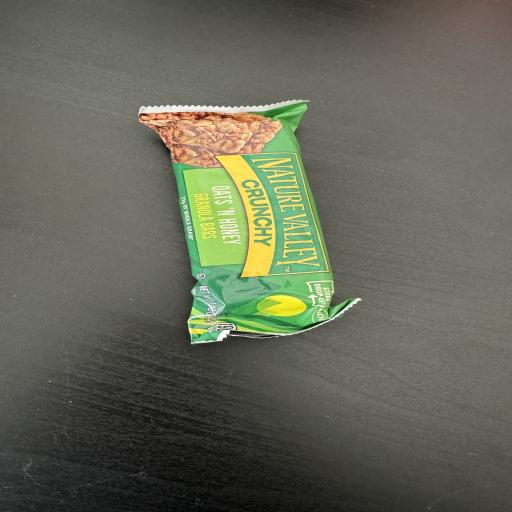granola: (139, 101, 358, 343)
